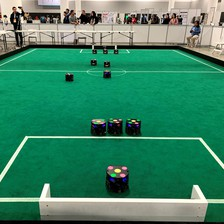goal: (90, 42, 117, 49)
robot: (103, 162, 128, 193), (106, 115, 123, 136), (89, 115, 106, 136), (124, 117, 141, 134), (63, 71, 74, 82), (100, 57, 110, 68), (100, 68, 110, 78), (89, 58, 97, 66), (101, 48, 108, 54), (112, 48, 118, 54), (91, 48, 97, 54), (102, 43, 106, 47)
